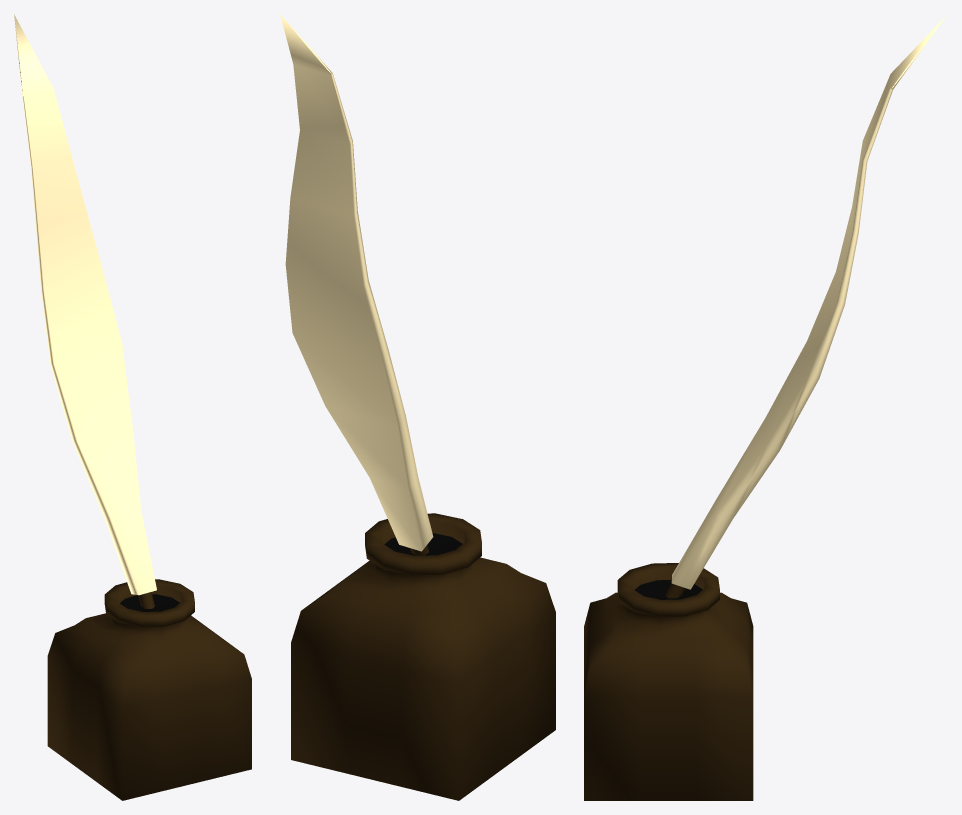
File: QuillAndInk.005.glb
3 views of the same model, side by side, from view 1: azimuth 30°, elevation 25°; view 2: azimuth 150°, elevation 25°; view 3: azimuth 270°, elevation 25° (orthographic). The views are drawn at different scales.
Parts seen in each view (by area): view 1: QuillAndInk.005; view 2: QuillAndInk.005; view 3: QuillAndInk.005.
Part boxes in pixels (left/top/right/bottom): QuillAndInk.005: left=14, top=14, right=251, bottom=800; QuillAndInk.005: left=280, top=14, right=555, bottom=800; QuillAndInk.005: left=584, top=14, right=947, bottom=800.
Bounding box in the file's own units: 0.0669 × 0.3244 × 0.1438.
2 materials, 2 textured.
